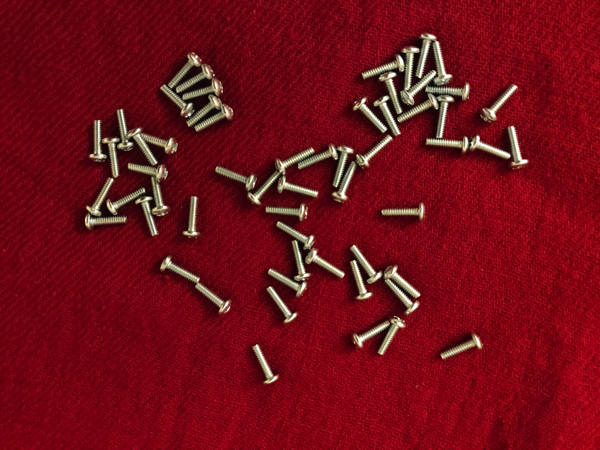shortscrew: (480, 82, 520, 125), (164, 50, 203, 91), (348, 244, 384, 286), (378, 312, 409, 360), (158, 255, 203, 288), (396, 92, 441, 125), (440, 331, 486, 363), (351, 97, 389, 135), (157, 84, 197, 120), (383, 264, 423, 300), (352, 318, 394, 352), (360, 52, 406, 83), (356, 135, 394, 172), (401, 69, 438, 107), (247, 169, 282, 209), (106, 185, 149, 217), (194, 102, 237, 134), (81, 175, 115, 215), (274, 145, 315, 178), (213, 164, 259, 193), (384, 279, 422, 314), (195, 283, 234, 317), (252, 342, 281, 387), (186, 94, 224, 128), (296, 142, 340, 171), (275, 221, 317, 251), (268, 287, 300, 326), (433, 94, 458, 143), (505, 125, 531, 172), (175, 63, 217, 92), (267, 267, 309, 296), (306, 249, 346, 279), (127, 128, 158, 166), (332, 161, 358, 206), (378, 70, 404, 115), (469, 135, 512, 162), (330, 143, 355, 189), (432, 40, 455, 90), (348, 259, 374, 303), (375, 94, 402, 136), (135, 195, 161, 237), (112, 107, 135, 154), (181, 78, 226, 102), (417, 30, 439, 79), (379, 200, 427, 222), (138, 131, 178, 157), (146, 177, 171, 218), (84, 211, 130, 233), (277, 177, 321, 200), (265, 202, 310, 224), (126, 162, 170, 184), (87, 118, 108, 164), (401, 43, 421, 91), (103, 135, 125, 178), (424, 135, 471, 155), (423, 82, 475, 100), (182, 194, 202, 239), (291, 237, 310, 281)
